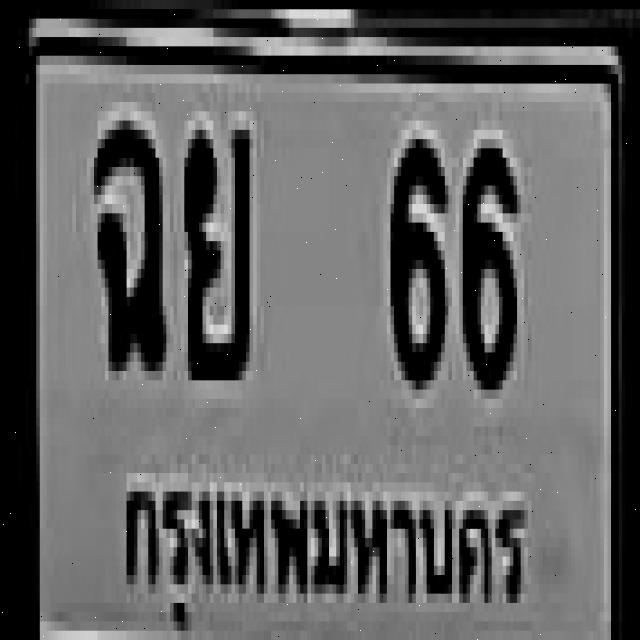18ChorChing: (90, 111, 162, 362)
43YorYak: (181, 121, 246, 371)
6: (387, 130, 441, 380), (459, 134, 514, 376)
Bangkok: (114, 462, 536, 632)
